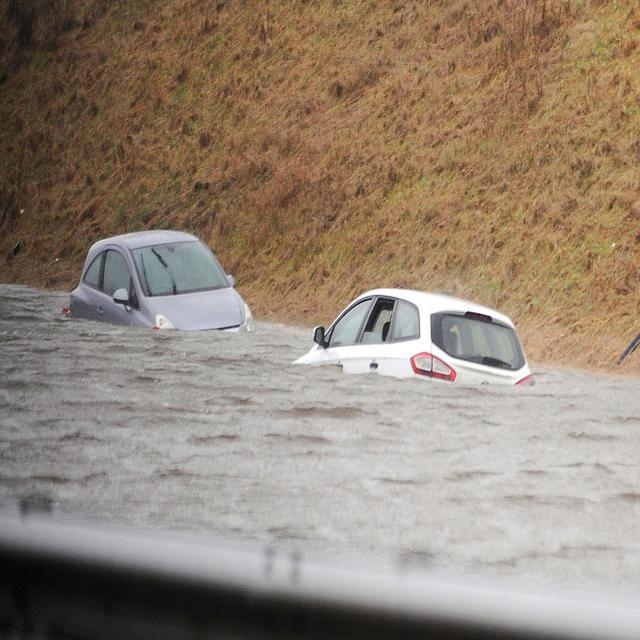water: (1, 284, 637, 637)
